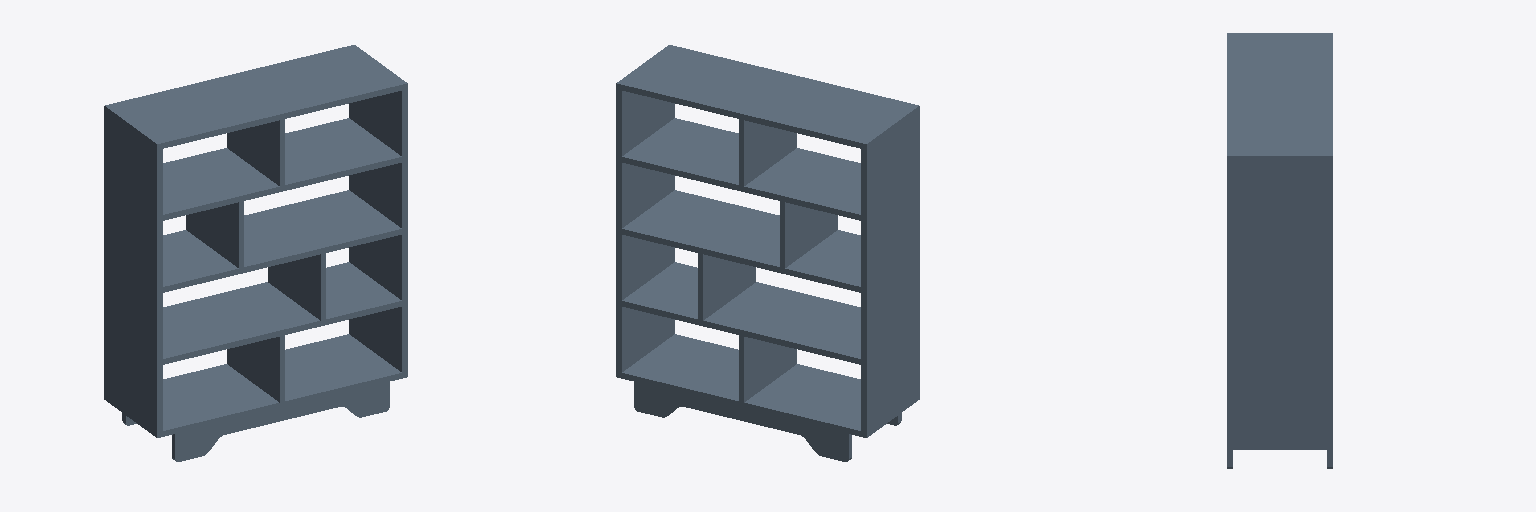
Rendered from on_again_off_again_.obj.
3 views of the same model, side by side, from view 1: azimuth 30°, elevation 25°; view 2: azimuth 150°, elevation 25°; view 3: azimuth 270°, elevation 25° (orthographic).
Visible parts, largest first — view 1: Body1, 3rdShelf, 2ndShelf, 4thShelf; view 2: Body1, 3rdShelf, 2ndShelf, 4thShelf; view 3: Body1.
Part boxes in pixels (left/top/right/bottom): Body1: left=104, top=45, right=407, bottom=461; 3rdShelf: left=163, top=190, right=401, bottom=292; 2ndShelf: left=163, top=118, right=401, bottom=220; 4thShelf: left=163, top=262, right=401, bottom=364; Body1: left=616, top=45, right=919, bottom=461; 3rdShelf: left=622, top=190, right=860, bottom=292; 2ndShelf: left=622, top=118, right=860, bottom=220; 4thShelf: left=622, top=262, right=860, bottom=364; Body1: left=1227, top=33, right=1332, bottom=468.
Bounding box in the file's own units: 81.82 × 101 × 30.